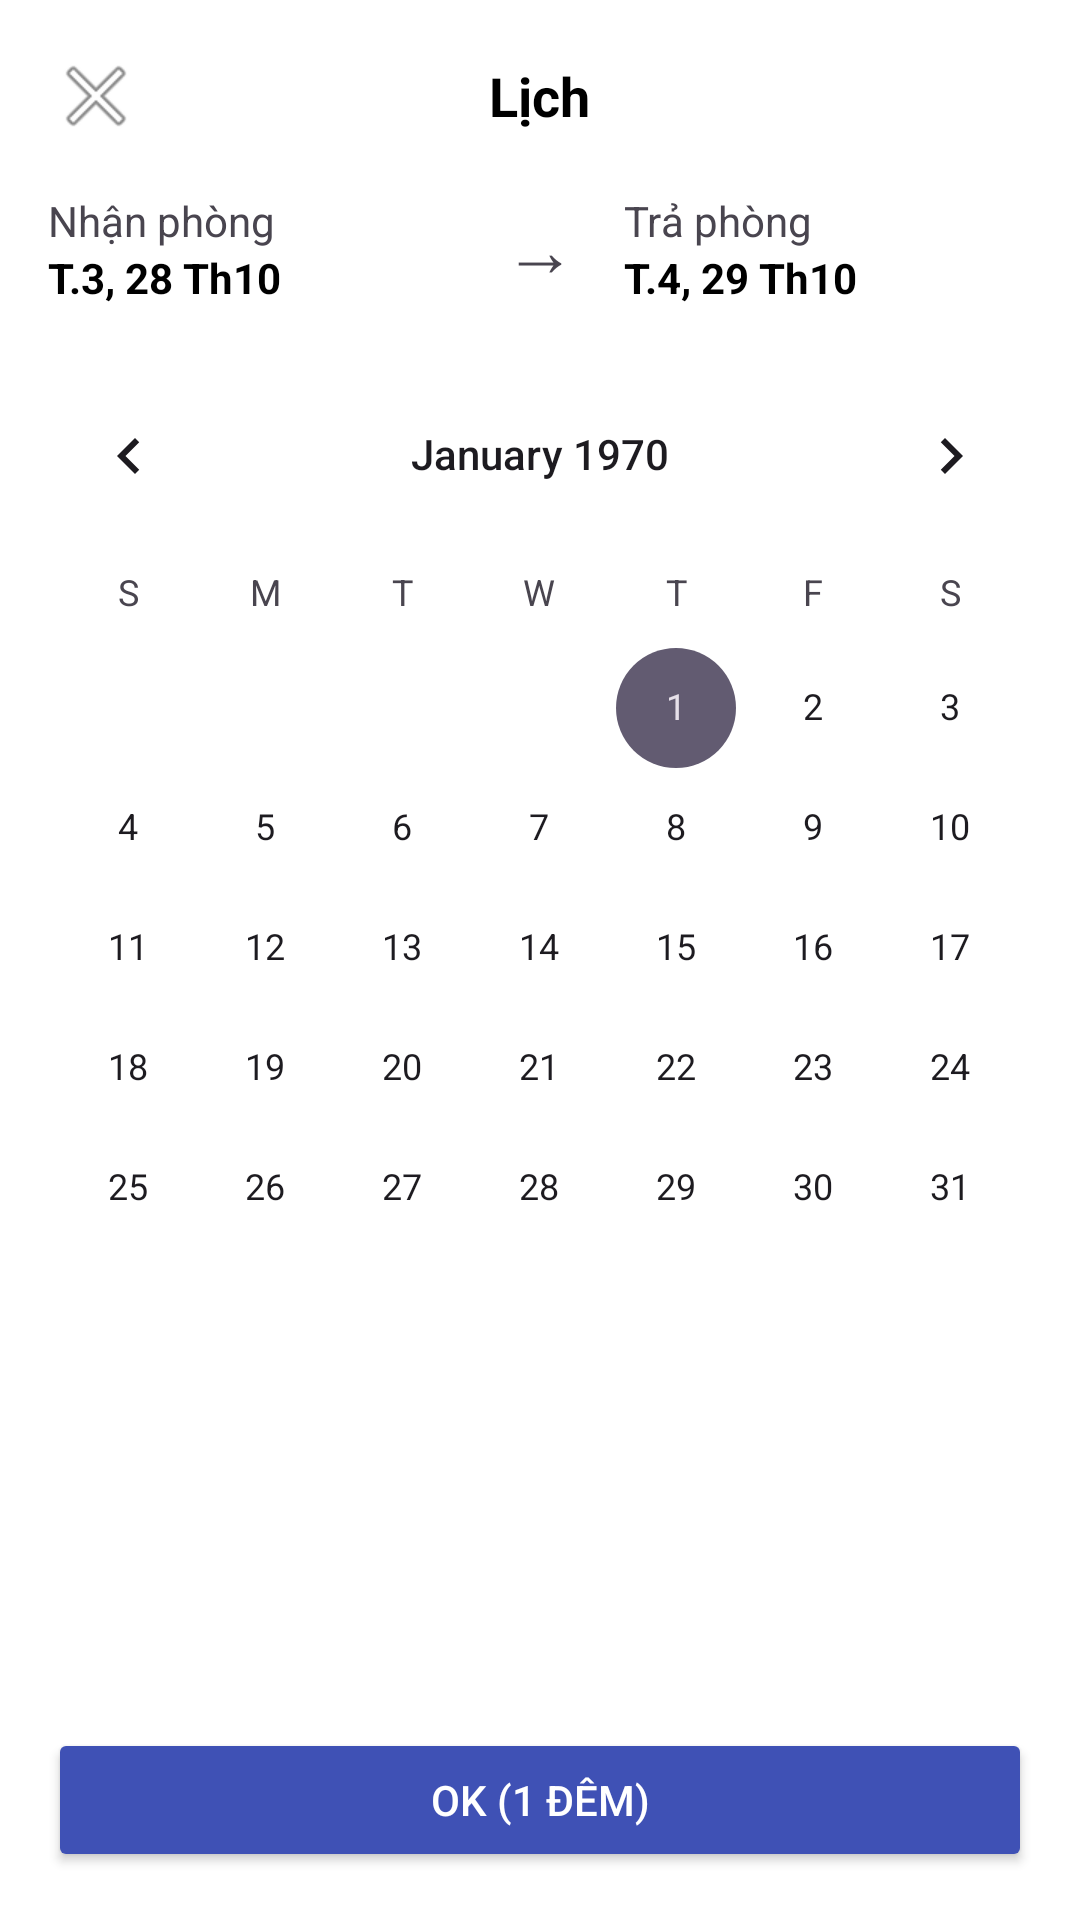

Icons on this 1080px x 1920px Android screen, each with its box as [x1=x1, y1=y1, x2=x2, y2=y2]:
close clear cancel: [x1=66, y1=66, x2=126, y2=126]
